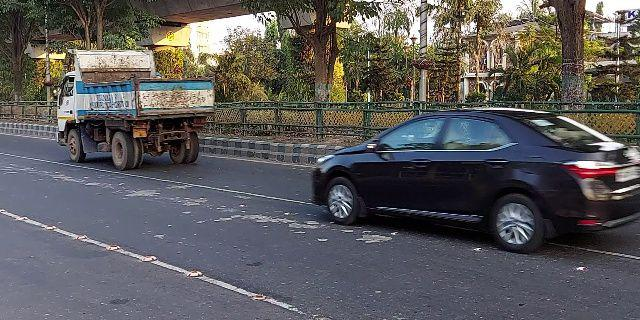Car: (304, 105, 640, 255)
Minitruck: (51, 48, 218, 177)
